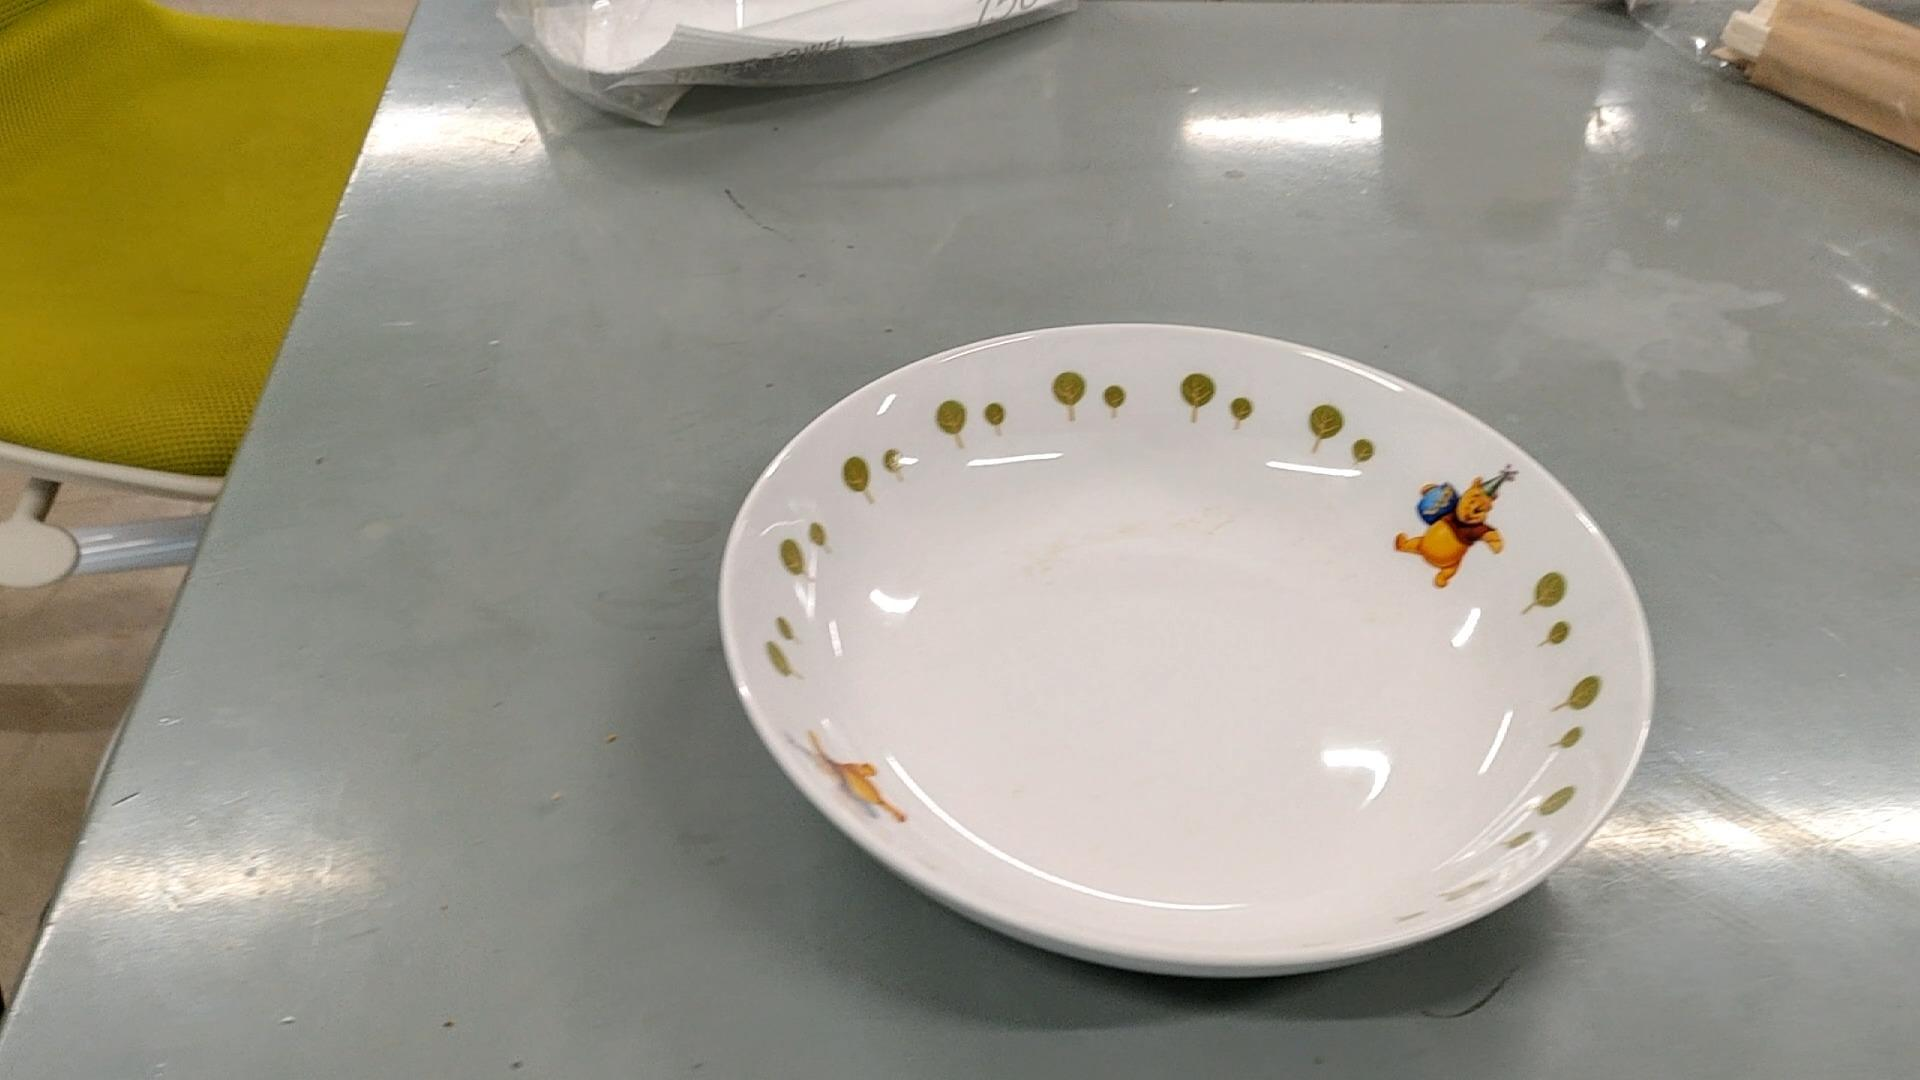plate: (723, 318, 1663, 981)
